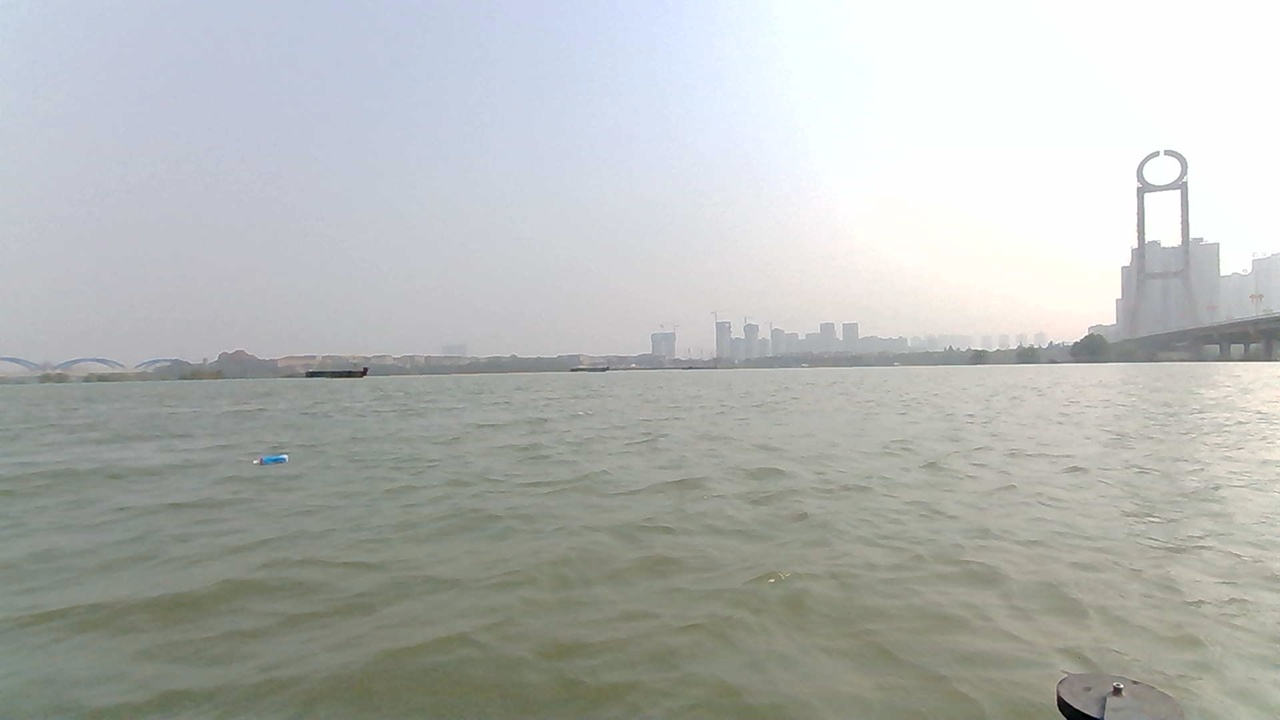bottle: (250, 450, 295, 472)
